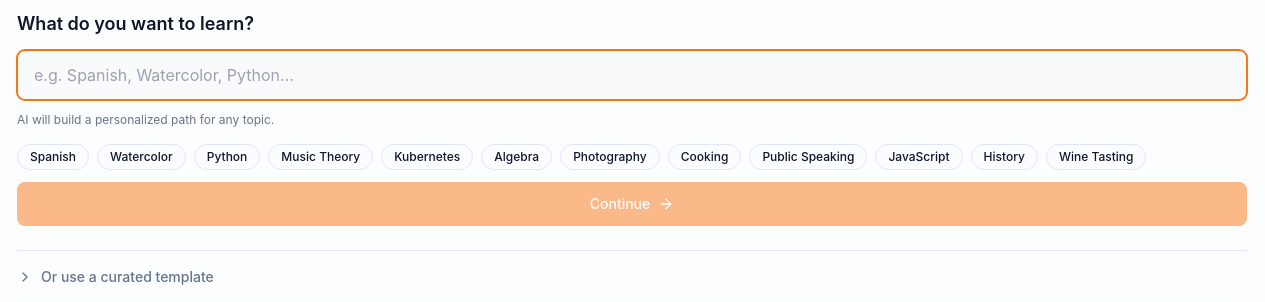
it: TopicPicker › clicking a chip prefills the free-text input
The image size is (1265, 302).
Click the button with test id "chip-spanish". click: (53, 157)
box: [17,144,89,170]
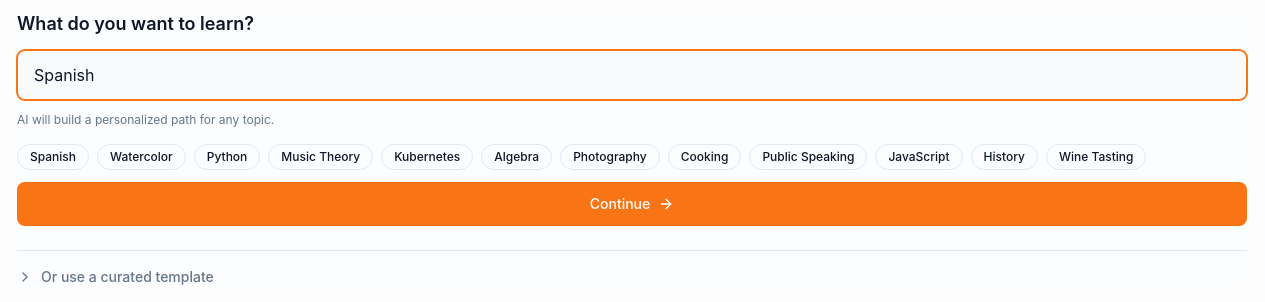
Now the field with test id "topic-freetext-input" holds "Spanish", box [17,50,1247,100]
